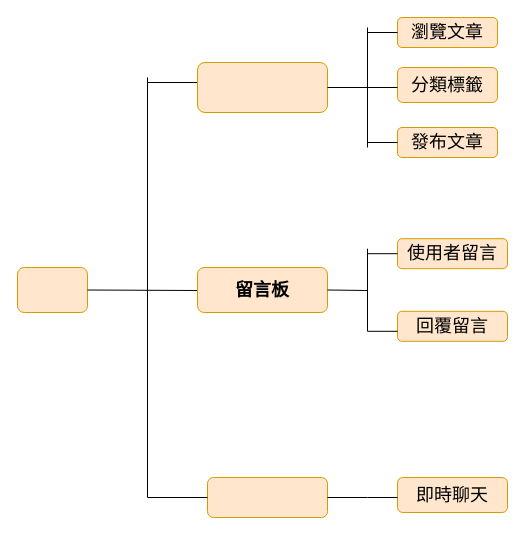
This 525x535 diagram has some shape labels left out. Here are the shapes that lost their labels. From the top down, the centre of each, then its label:
At [262,87]: "文章列表".
At [52,289]: "首頁".
At [267,497]: "即時通訊".
